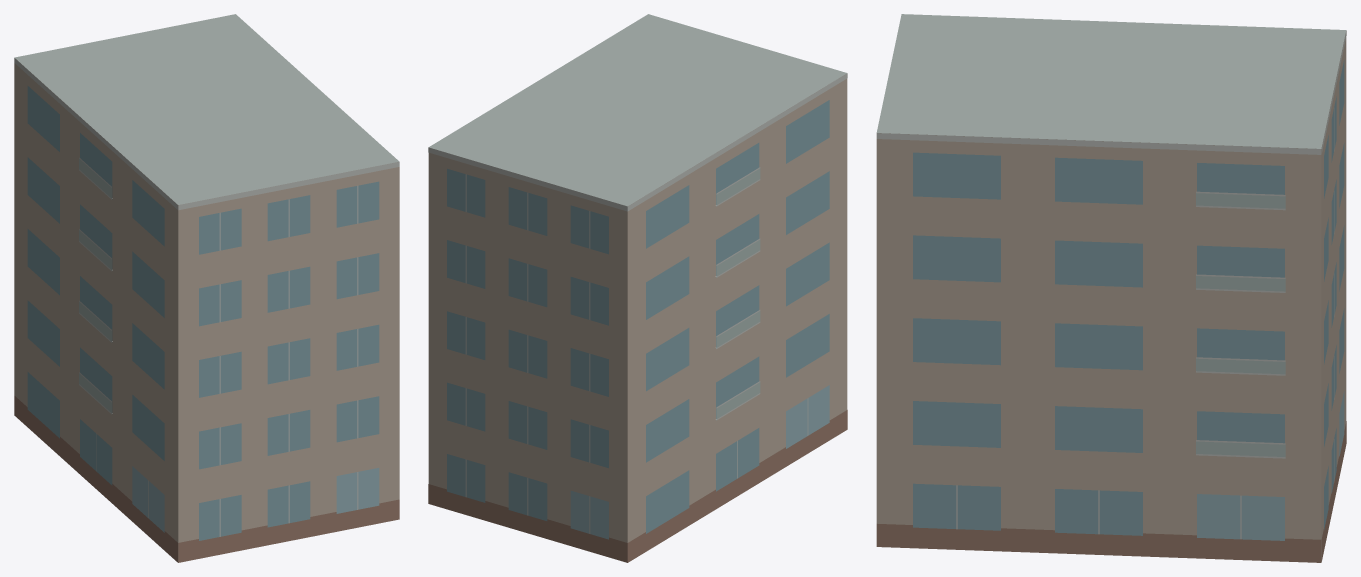
The model's file is survey-upis-32930936.glb.
3 views of the same model, side by side, from view 1: azimuth 30°, elevation 25°; view 2: azimuth 150°, elevation 25°; view 3: azimuth 270°, elevation 25° (orthographic). The views are drawn at different scales.
Visible parts, largest first — view 1: survey-upis-32930936.tmp; view 2: survey-upis-32930936.tmp; view 3: survey-upis-32930936.tmp.
Boxes of the visible parts, x1,y1,x2,y2 form: survey-upis-32930936.tmp: [14, 14, 399, 562]; survey-upis-32930936.tmp: [428, 14, 847, 562]; survey-upis-32930936.tmp: [876, 14, 1346, 562].
Bounding box in the file's own units: 11.76 × 16.8 × 17.29.
